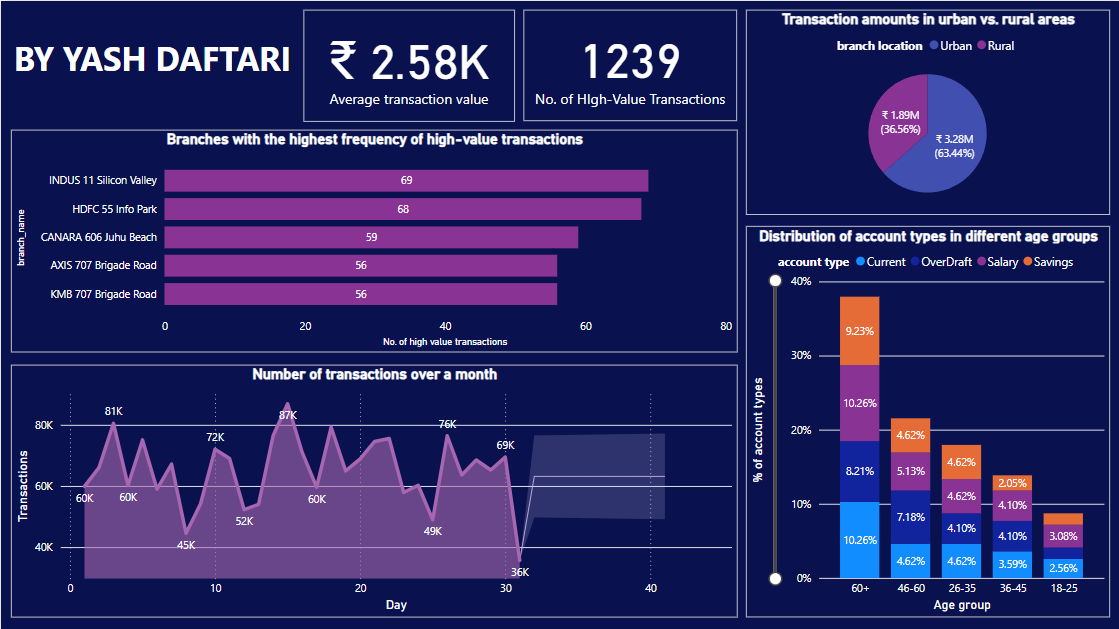

What the dashboard file says about the page in this screenshot:
{"tool":"powerbi","page":{"name":"Dashboard 1","canvas":[1280,720],"ordinal":0},"visuals":[{"type":"columnChart","title":" Distribution of account types in different age groups","fields":{"Category":["customers.age group"],"Y":["CountNonNull(accounts.account_type)"],"Series":["accounts.account_type"]},"box":[851.4,257.1,415.7,447.1],"z":0},{"type":"pieChart","title":"Transaction amounts in urban vs. rural areas","fields":{"Category":["branches.branch_location"],"Y":["Sum(Transactions.amount)"]},"box":[851.4,10,415.7,234.3],"z":1000},{"type":"lineChart","title":"Number of transactions over a month","fields":{"Category":["Transactions.Date without time.Variation.Date Hierarchy.Day"],"Y":["Sum(Transactions.transaction_id)"]},"box":[11.4,415.7,830,288.6],"z":2000},{"type":"textbox","box":[0,20,345.7,107.1],"z":3000},{"type":"barChart","title":"Branches with the highest frequency of high-value transactions","fields":{"Y":["HighValueTransactions.HighValueTransactionCount"],"Category":["branches.branch_name"]},"box":[11.4,147.1,830,254.3],"z":4000},{"type":"card","fields":{"Values":["Avg(Transactions.amount)"]},"box":[346.2,9.6,241.8,127.8],"z":4001},{"type":"card","fields":{"Values":["CountNonNull(HighValueTransactions.transaction_id)"]},"box":[597.1,10,244.3,127.1],"z":4002}]}

Visuals, with their boxes in screenshot pixels (x1, y1, x2, y2), scaled from the page's 1280x720 canvas onto the 1119x629 screenshot:
" Distribution of account types in different age groups" columnChart: box(744, 225, 1108, 615)
"Transaction amounts in urban vs. rural areas" pieChart: box(744, 9, 1108, 213)
"Number of transactions over a month" lineChart: box(10, 363, 736, 615)
textbox: box(0, 17, 302, 111)
"Branches with the highest frequency of high-value transactions" barChart: box(10, 129, 736, 351)
card - Avg(Transactions.amount): box(303, 8, 514, 120)
card - CountNonNull(HighValueTransactions.transaction_id): box(522, 9, 736, 120)
